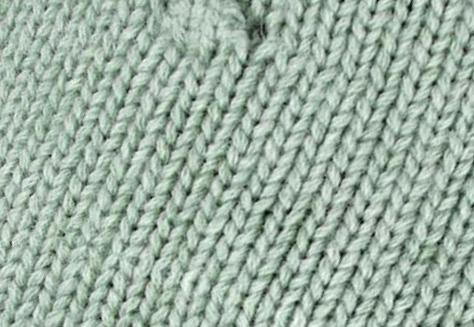knot: (159, 2, 257, 62)
